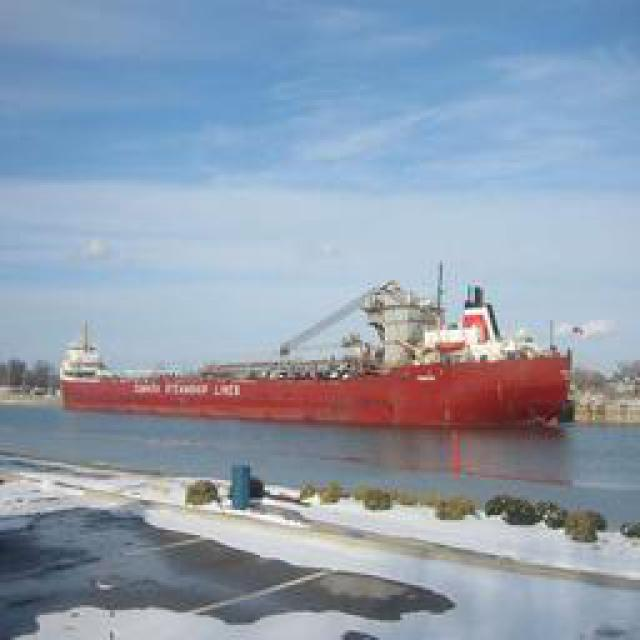Ship: (58, 276, 583, 439)
